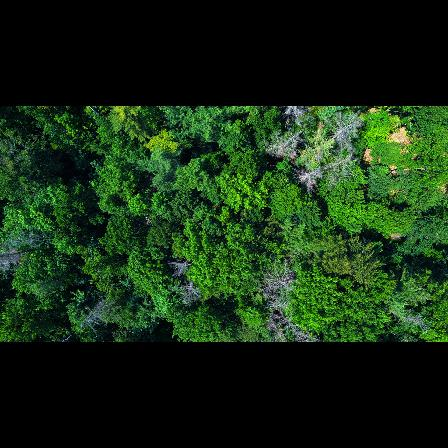Dead: (263, 303, 317, 342), (319, 116, 368, 150), (81, 294, 117, 332), (264, 260, 298, 300), (383, 302, 429, 330), (268, 134, 307, 163), (317, 155, 360, 179), (298, 161, 328, 195), (275, 108, 309, 130), (180, 278, 201, 304), (169, 258, 192, 277)
